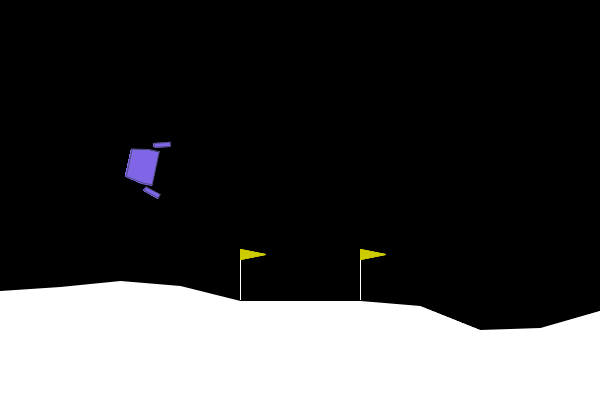lander: (120, 133, 172, 200)
